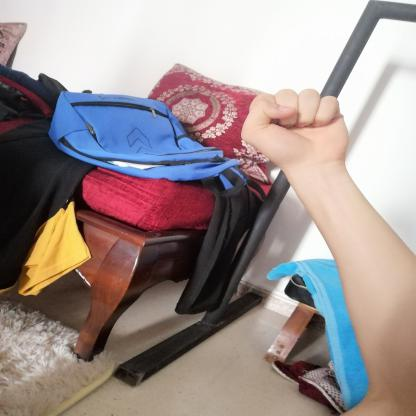SAD: (229, 76, 369, 176)
